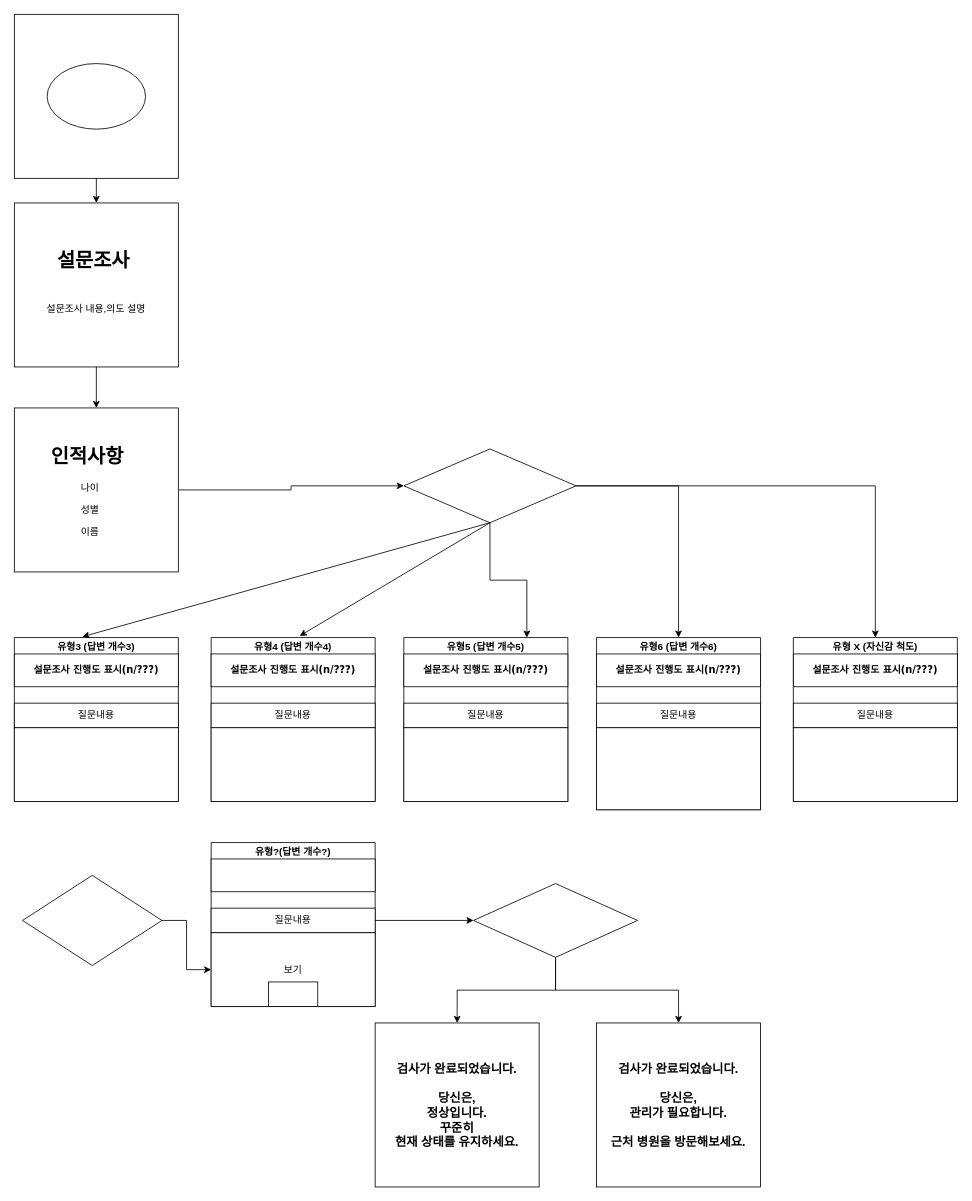
The diagram is 972 pixels wide and 1201 high, and some of its shapes have lost their labels. Here are the shapes that lost their labels. From the top down, the centre of each, then its label:
At point 96,96: "앱 초기 화면 (로고)".
At point 489,485: "질문에 답변의 개수에 따라 보여지는 화면의 구조가 달라짐.".
At point 96,764: "보기 1. 2. 3.".
At point 292,764: "보기 1. 2. 3. 4.".
At point 485,764: "보기 1. 2. 3. 4. 5.".
At point 678,768: "보기 1. 2. 3. 4. 5. 6.".
At point 875,764: "보기 0~999".
At point 292,875: "설문조사 진행도 표시(n/n)".
At point 92,920: "마지막 설문일 경우 마침 버튼을 통해서 서버로 설문 결과를 전송해줌.".
At point 555,920: "설문조사 점수의 합계로 2가지 결과가 도출됨.".
At point 293,994: "마침".
